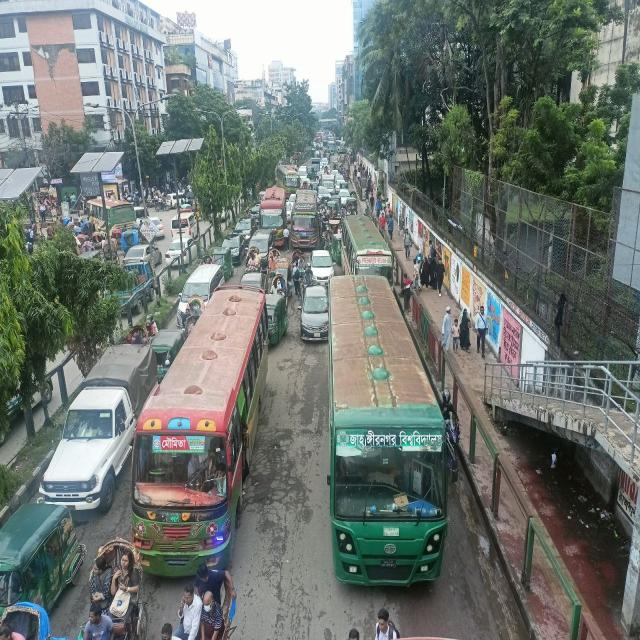people: (82, 534, 118, 617), (111, 548, 141, 624), (198, 575, 228, 640), (174, 577, 204, 640), (367, 596, 404, 640), (452, 292, 478, 354), (477, 295, 497, 367), (439, 301, 459, 348), (37, 196, 54, 237), (340, 619, 367, 640), (417, 262, 436, 282), (13, 356, 15, 357)
vehicle: (129, 239, 282, 578), (319, 270, 459, 610), (40, 326, 165, 507), (2, 476, 94, 636), (80, 527, 158, 640), (5, 560, 81, 640), (334, 191, 397, 275), (340, 200, 400, 280), (258, 264, 306, 359), (131, 291, 189, 368), (251, 263, 294, 346), (77, 190, 155, 232), (290, 258, 333, 334), (206, 228, 247, 296), (265, 153, 317, 204), (303, 276, 337, 353), (302, 227, 341, 292), (294, 174, 326, 248), (194, 243, 228, 309), (230, 202, 263, 256), (279, 154, 296, 192), (186, 279, 188, 283), (163, 270, 164, 272)
